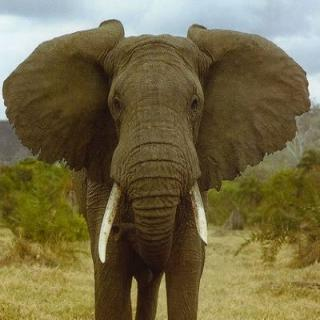Elephant: (2, 18, 316, 320)
